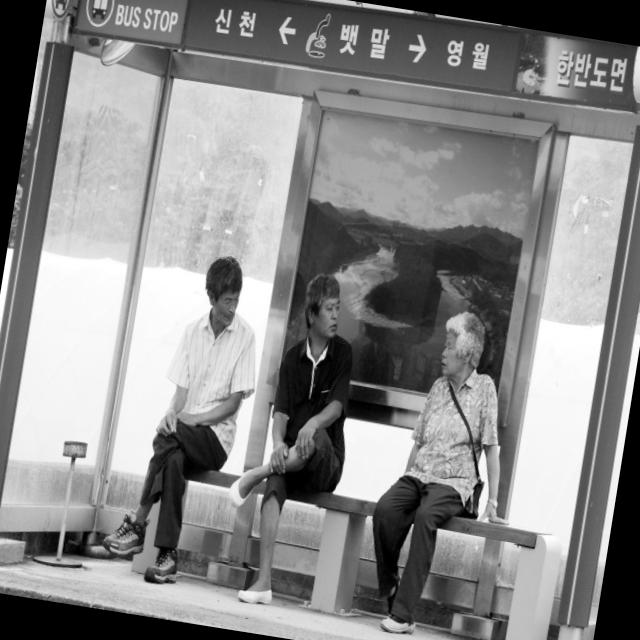person: (221, 223, 380, 614), (369, 289, 526, 640), (125, 222, 264, 586)
